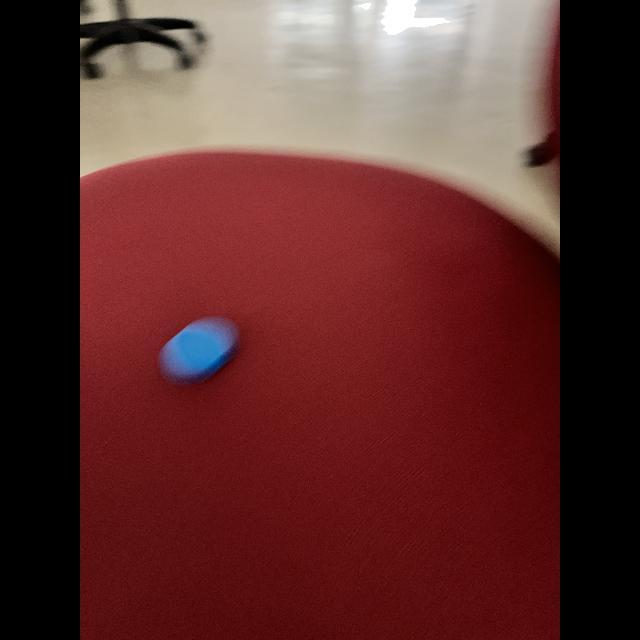plastic_bottle_cap: (161, 321, 237, 387)
